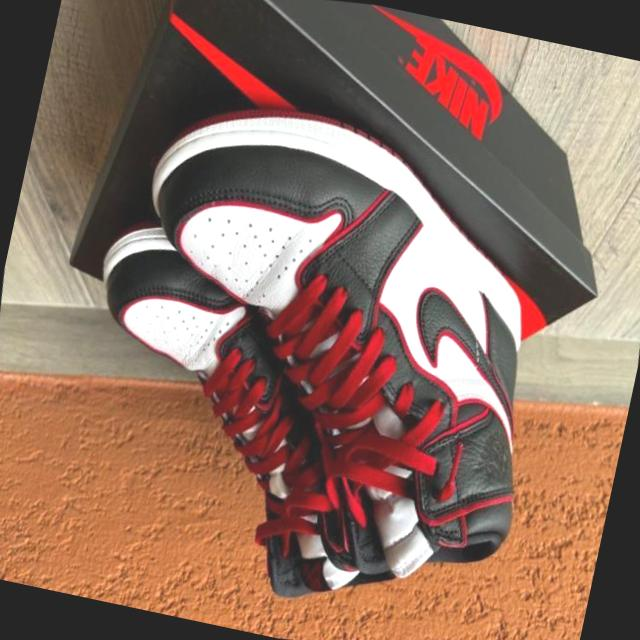nike_original_jordan: (60, 51, 601, 634), (31, 182, 452, 636)
